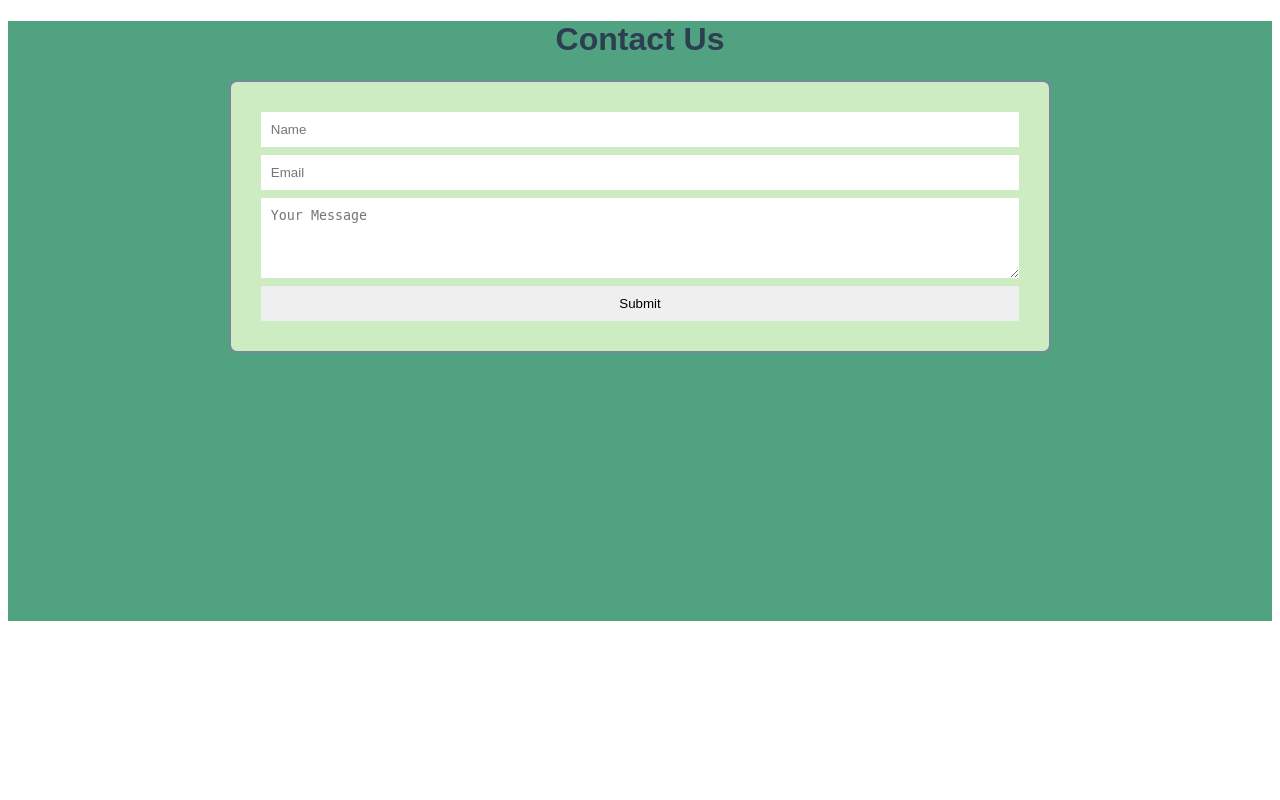
tests for submiting a form for ContactPage › should reveal a notification when submitted
The width and height of the screenshot is (1280, 800).
Type "razieh" into the field with placeholder "Name" at [640, 129], box [261,112,1019,147]
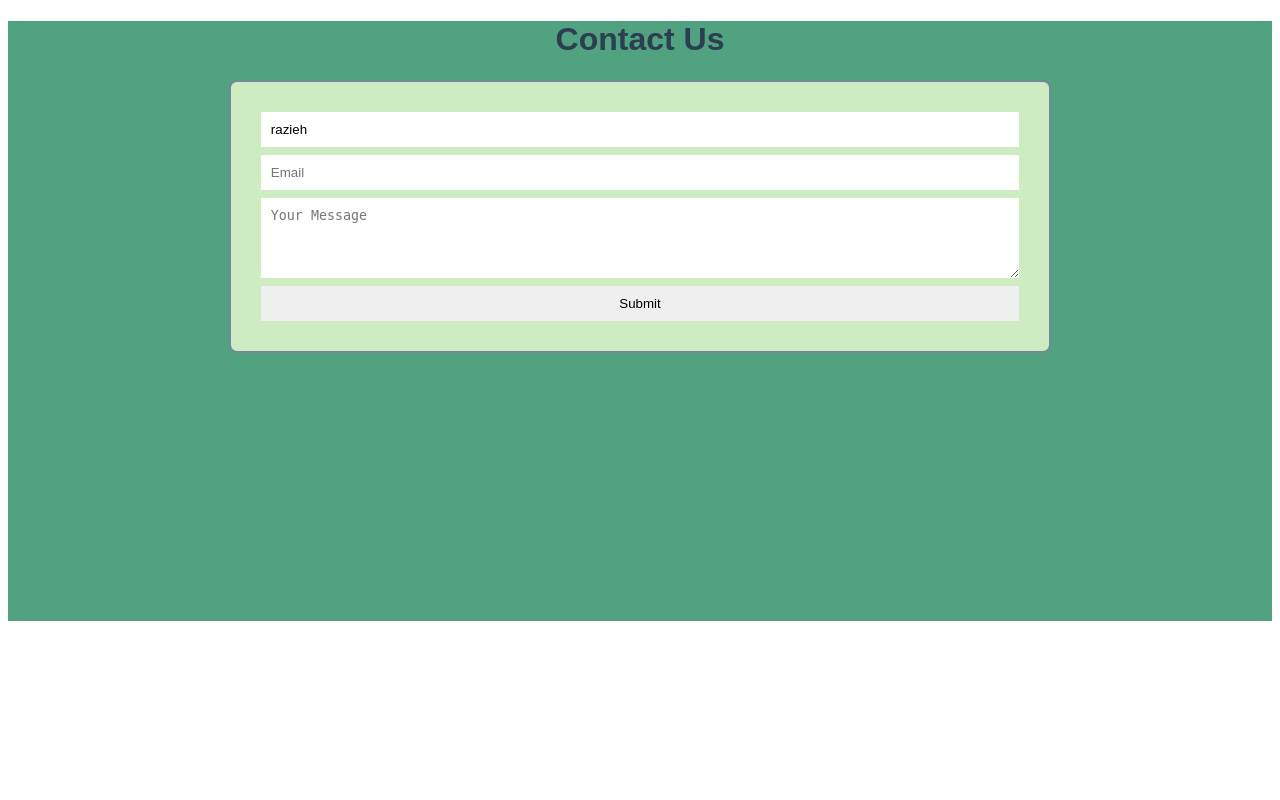
Submit the form with class "contact-form", box [229,80,1051,353]
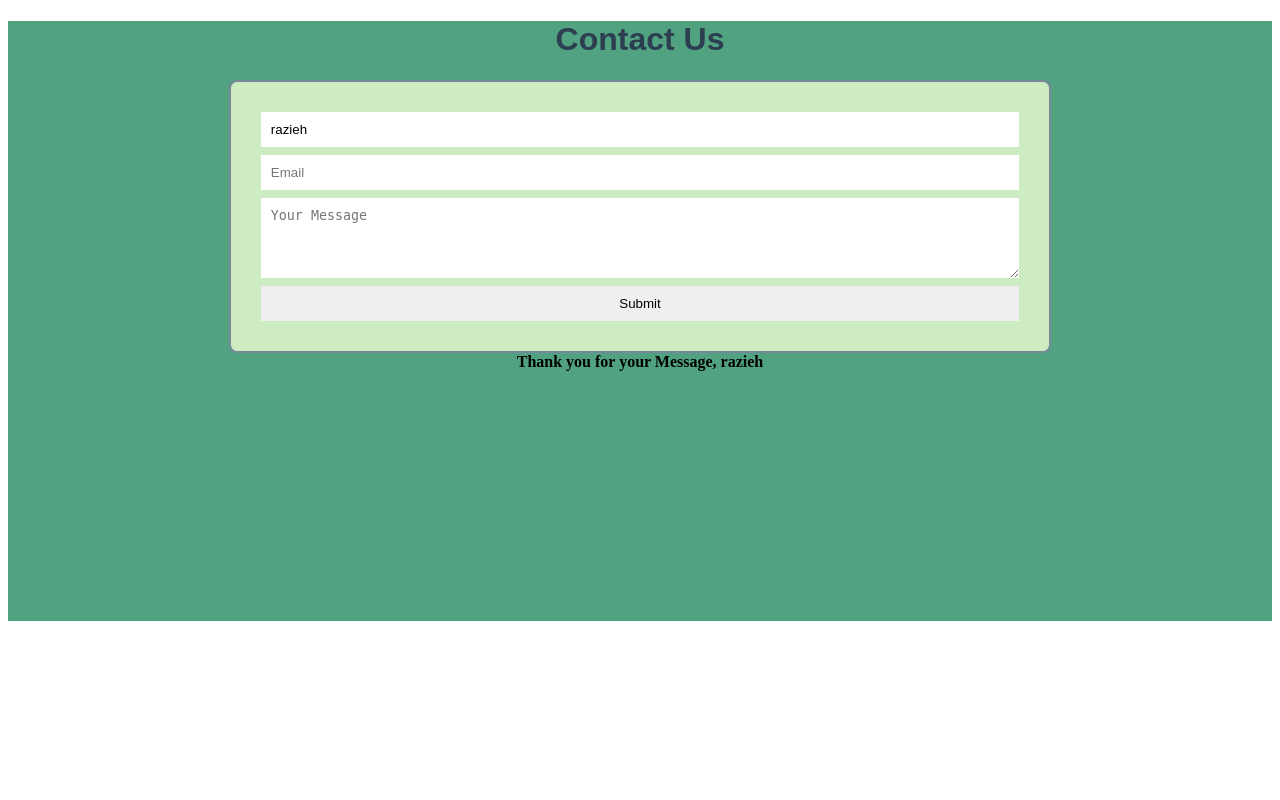
Expected: the text with class "msg" reads "Thank you for your Message, razieh", [517,353,763,370]
